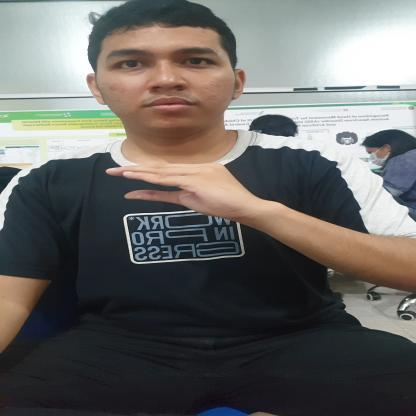Pagi: (100, 160, 290, 230)
